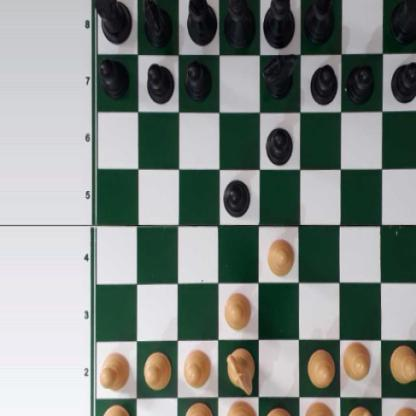black-bishop: (303, 0, 335, 45), (186, 0, 217, 45)
black-king: (262, 0, 296, 49)
black-knight: (262, 54, 298, 102), (142, 0, 172, 48)
black-pawn: (99, 57, 129, 100), (146, 60, 173, 103), (265, 123, 294, 163), (390, 60, 416, 103), (310, 63, 337, 104), (347, 62, 374, 103), (185, 60, 211, 100), (223, 178, 249, 216)
black-queen: (223, 0, 256, 47)
black-rook: (93, 0, 132, 42), (389, 0, 416, 42)
white-bishop: (304, 401, 334, 416), (183, 401, 213, 416)
white-king: (264, 404, 293, 416)
white-knight: (226, 346, 255, 394), (347, 404, 375, 416)
white-pawn: (97, 350, 131, 390), (223, 289, 252, 330), (182, 347, 211, 388), (343, 341, 371, 381), (266, 237, 295, 275), (306, 348, 334, 387), (143, 350, 171, 387), (390, 345, 416, 383)
white-queen: (222, 400, 259, 416)
white-rook: (93, 403, 132, 416), (391, 405, 416, 416)
